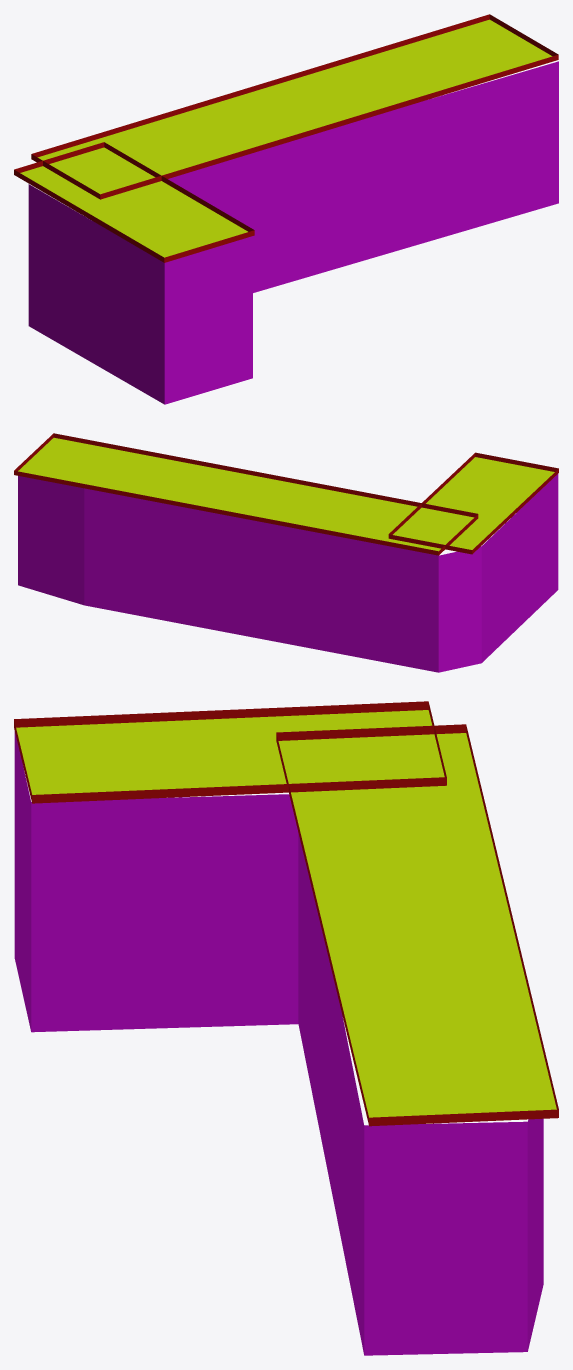
The model's file is bardage_liseré_rouge_51.glb.
3 renders of one model, top to bottom at view 1: azimuth 30°, elevation 25°; view 2: azimuth 150°, elevation 25°; view 3: azimuth 270°, elevation 25°, orthographic. The views are drawn at different scales.
Parts seen in each view (by area): view 1: bardage_liseré_rouge_51; view 2: bardage_liseré_rouge_51; view 3: bardage_liseré_rouge_51.
Part boxes in pixels (box(x1,y1,x2,y2)): bardage_liseré_rouge_51: box(14, 14, 558, 404); bardage_liseré_rouge_51: box(14, 433, 558, 672); bardage_liseré_rouge_51: box(14, 701, 558, 1355).
Size of the model in its own units: 36.24 by 9.7 by 20.05.
